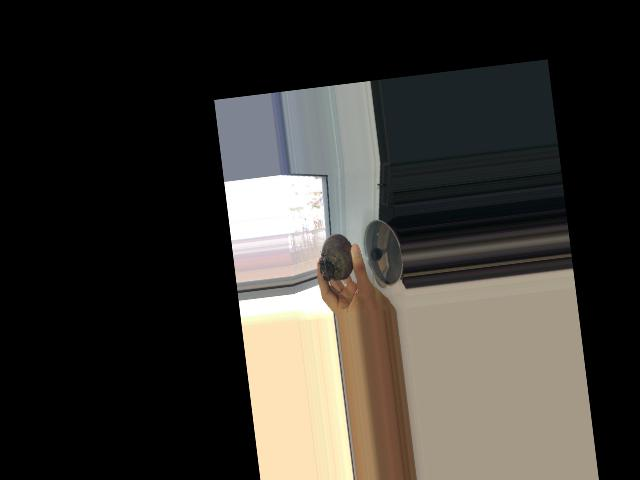beet: (315, 231, 357, 295)
